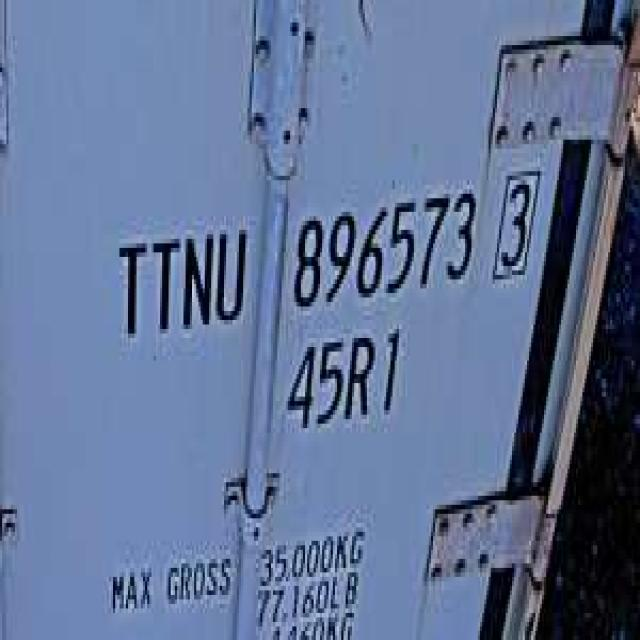dv: (490, 154, 540, 288)
owner: (108, 207, 250, 347)
serial: (284, 180, 482, 311)
size: (280, 320, 408, 442)
